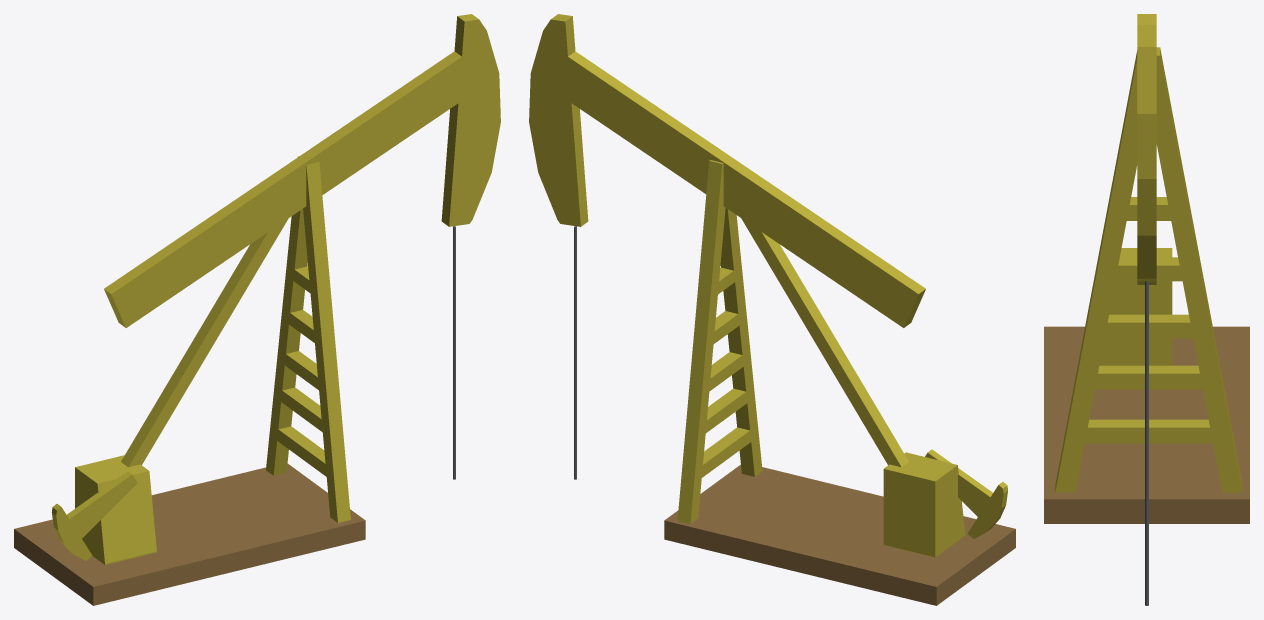
Rendered from oil rig design.gltf.
3 renders of one model, left to right at view 1: azimuth 30°, elevation 25°; view 2: azimuth 150°, elevation 25°; view 3: azimuth 270°, elevation 25°, orthographic. The views are drawn at different scales.
Parts seen in each view (by area): view 1: Mesh_Mesh_head_geo001_lambert2SG001; view 2: Mesh_Mesh_head_geo001_lambert2SG001; view 3: Mesh_Mesh_head_geo001_lambert2SG001.
Part boxes in pixels (<box>): Mesh_Mesh_head_geo001_lambert2SG001: <box>14,14,500,605</box>; Mesh_Mesh_head_geo001_lambert2SG001: <box>529,14,1015,605</box>; Mesh_Mesh_head_geo001_lambert2SG001: <box>1044,14,1249,605</box>.
Size of the model in its own units: 177 by 169 by 53.
